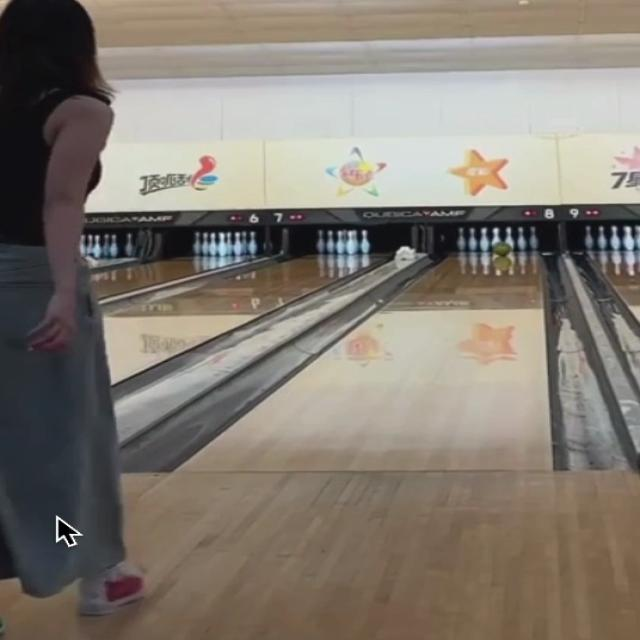alley: (181, 240, 549, 471)
balls: (492, 242, 511, 257)
bottle: (457, 226, 539, 252)
